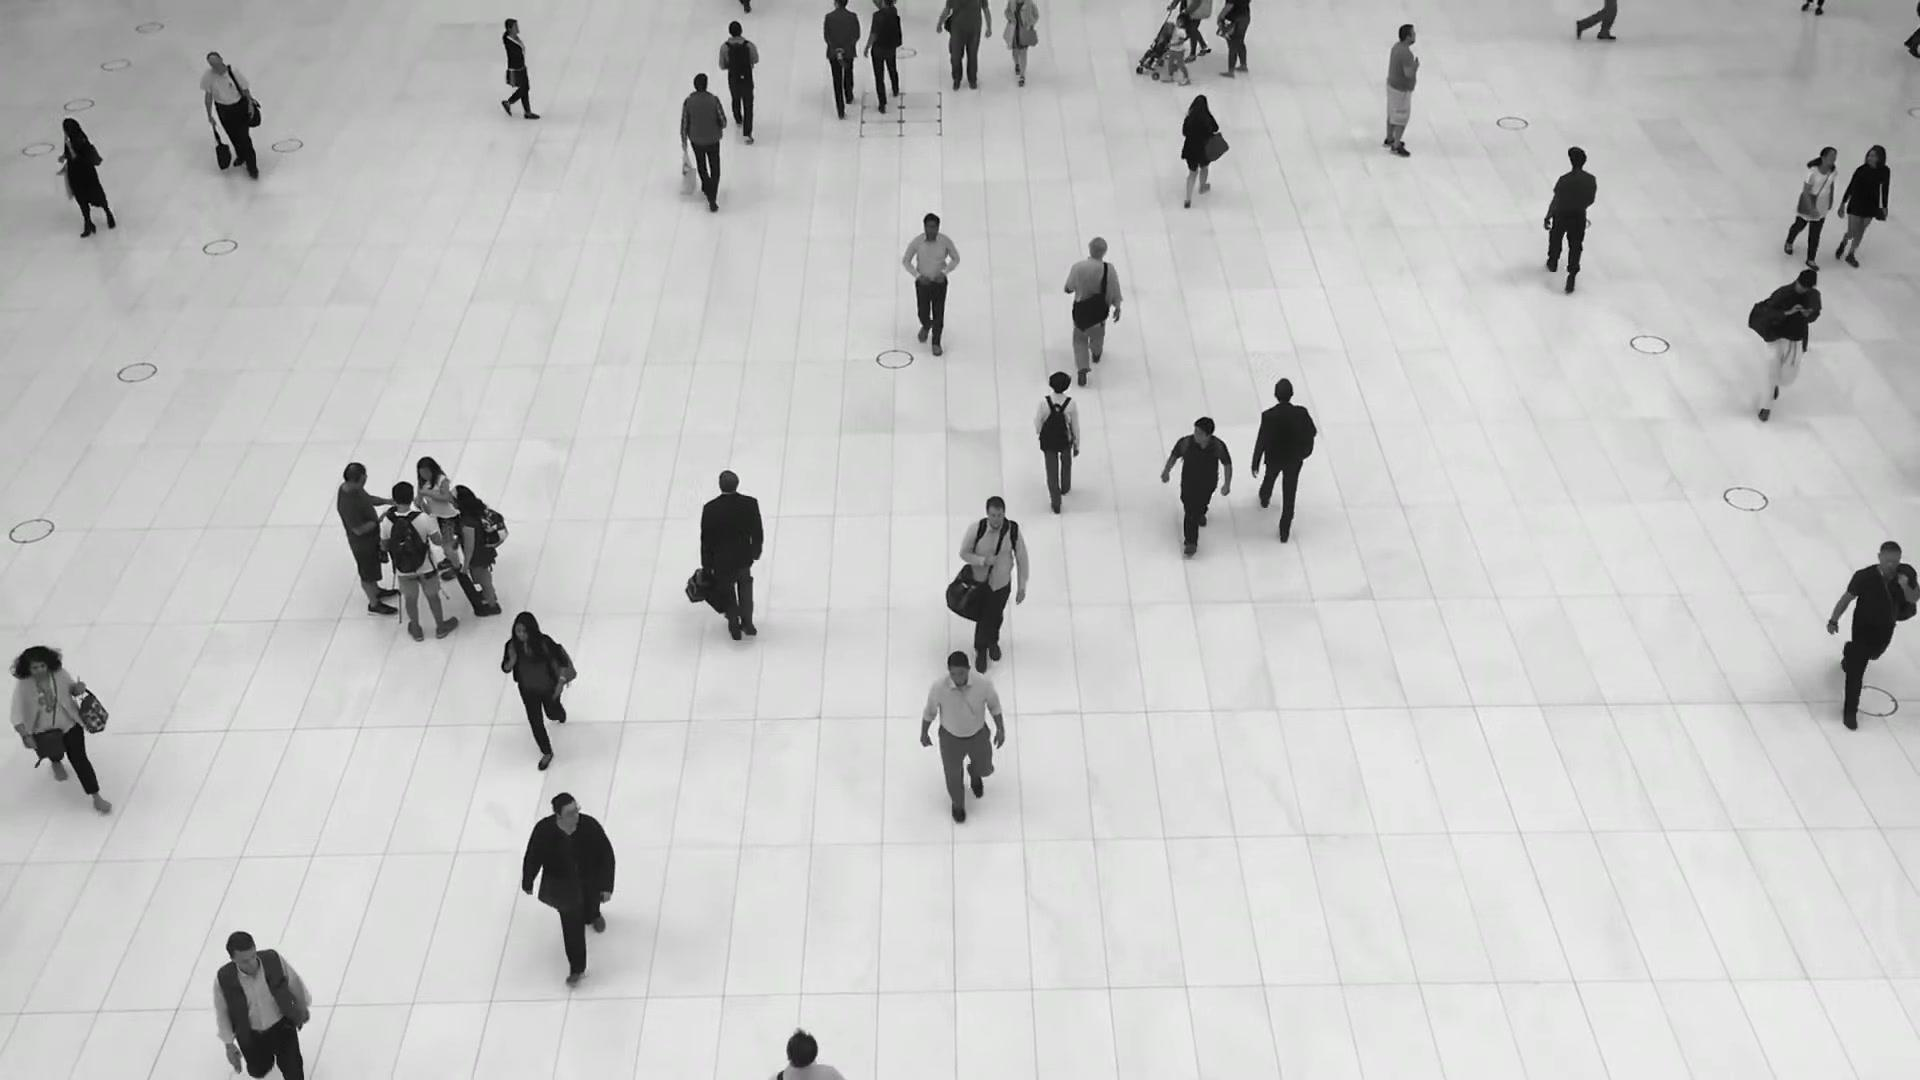person: (519, 791, 616, 985), (1827, 537, 1918, 720), (7, 641, 104, 805), (211, 927, 314, 1080), (921, 647, 1006, 819), (379, 481, 459, 641), (959, 497, 1029, 681), (697, 470, 767, 652), (501, 607, 578, 763), (1747, 268, 1822, 420), (1251, 380, 1317, 550), (1163, 414, 1231, 556), (336, 465, 400, 615), (900, 213, 960, 356), (1064, 237, 1122, 382), (1542, 144, 1598, 290), (1033, 373, 1082, 523), (200, 51, 258, 180), (449, 484, 502, 617), (60, 116, 118, 237), (1783, 144, 1838, 268), (678, 71, 727, 208), (1835, 144, 1890, 266), (1179, 93, 1229, 206), (1381, 24, 1421, 157), (495, 18, 547, 120), (417, 455, 459, 580), (717, 20, 760, 144), (822, 0, 861, 117), (864, 0, 902, 116), (1163, 13, 1190, 86)
